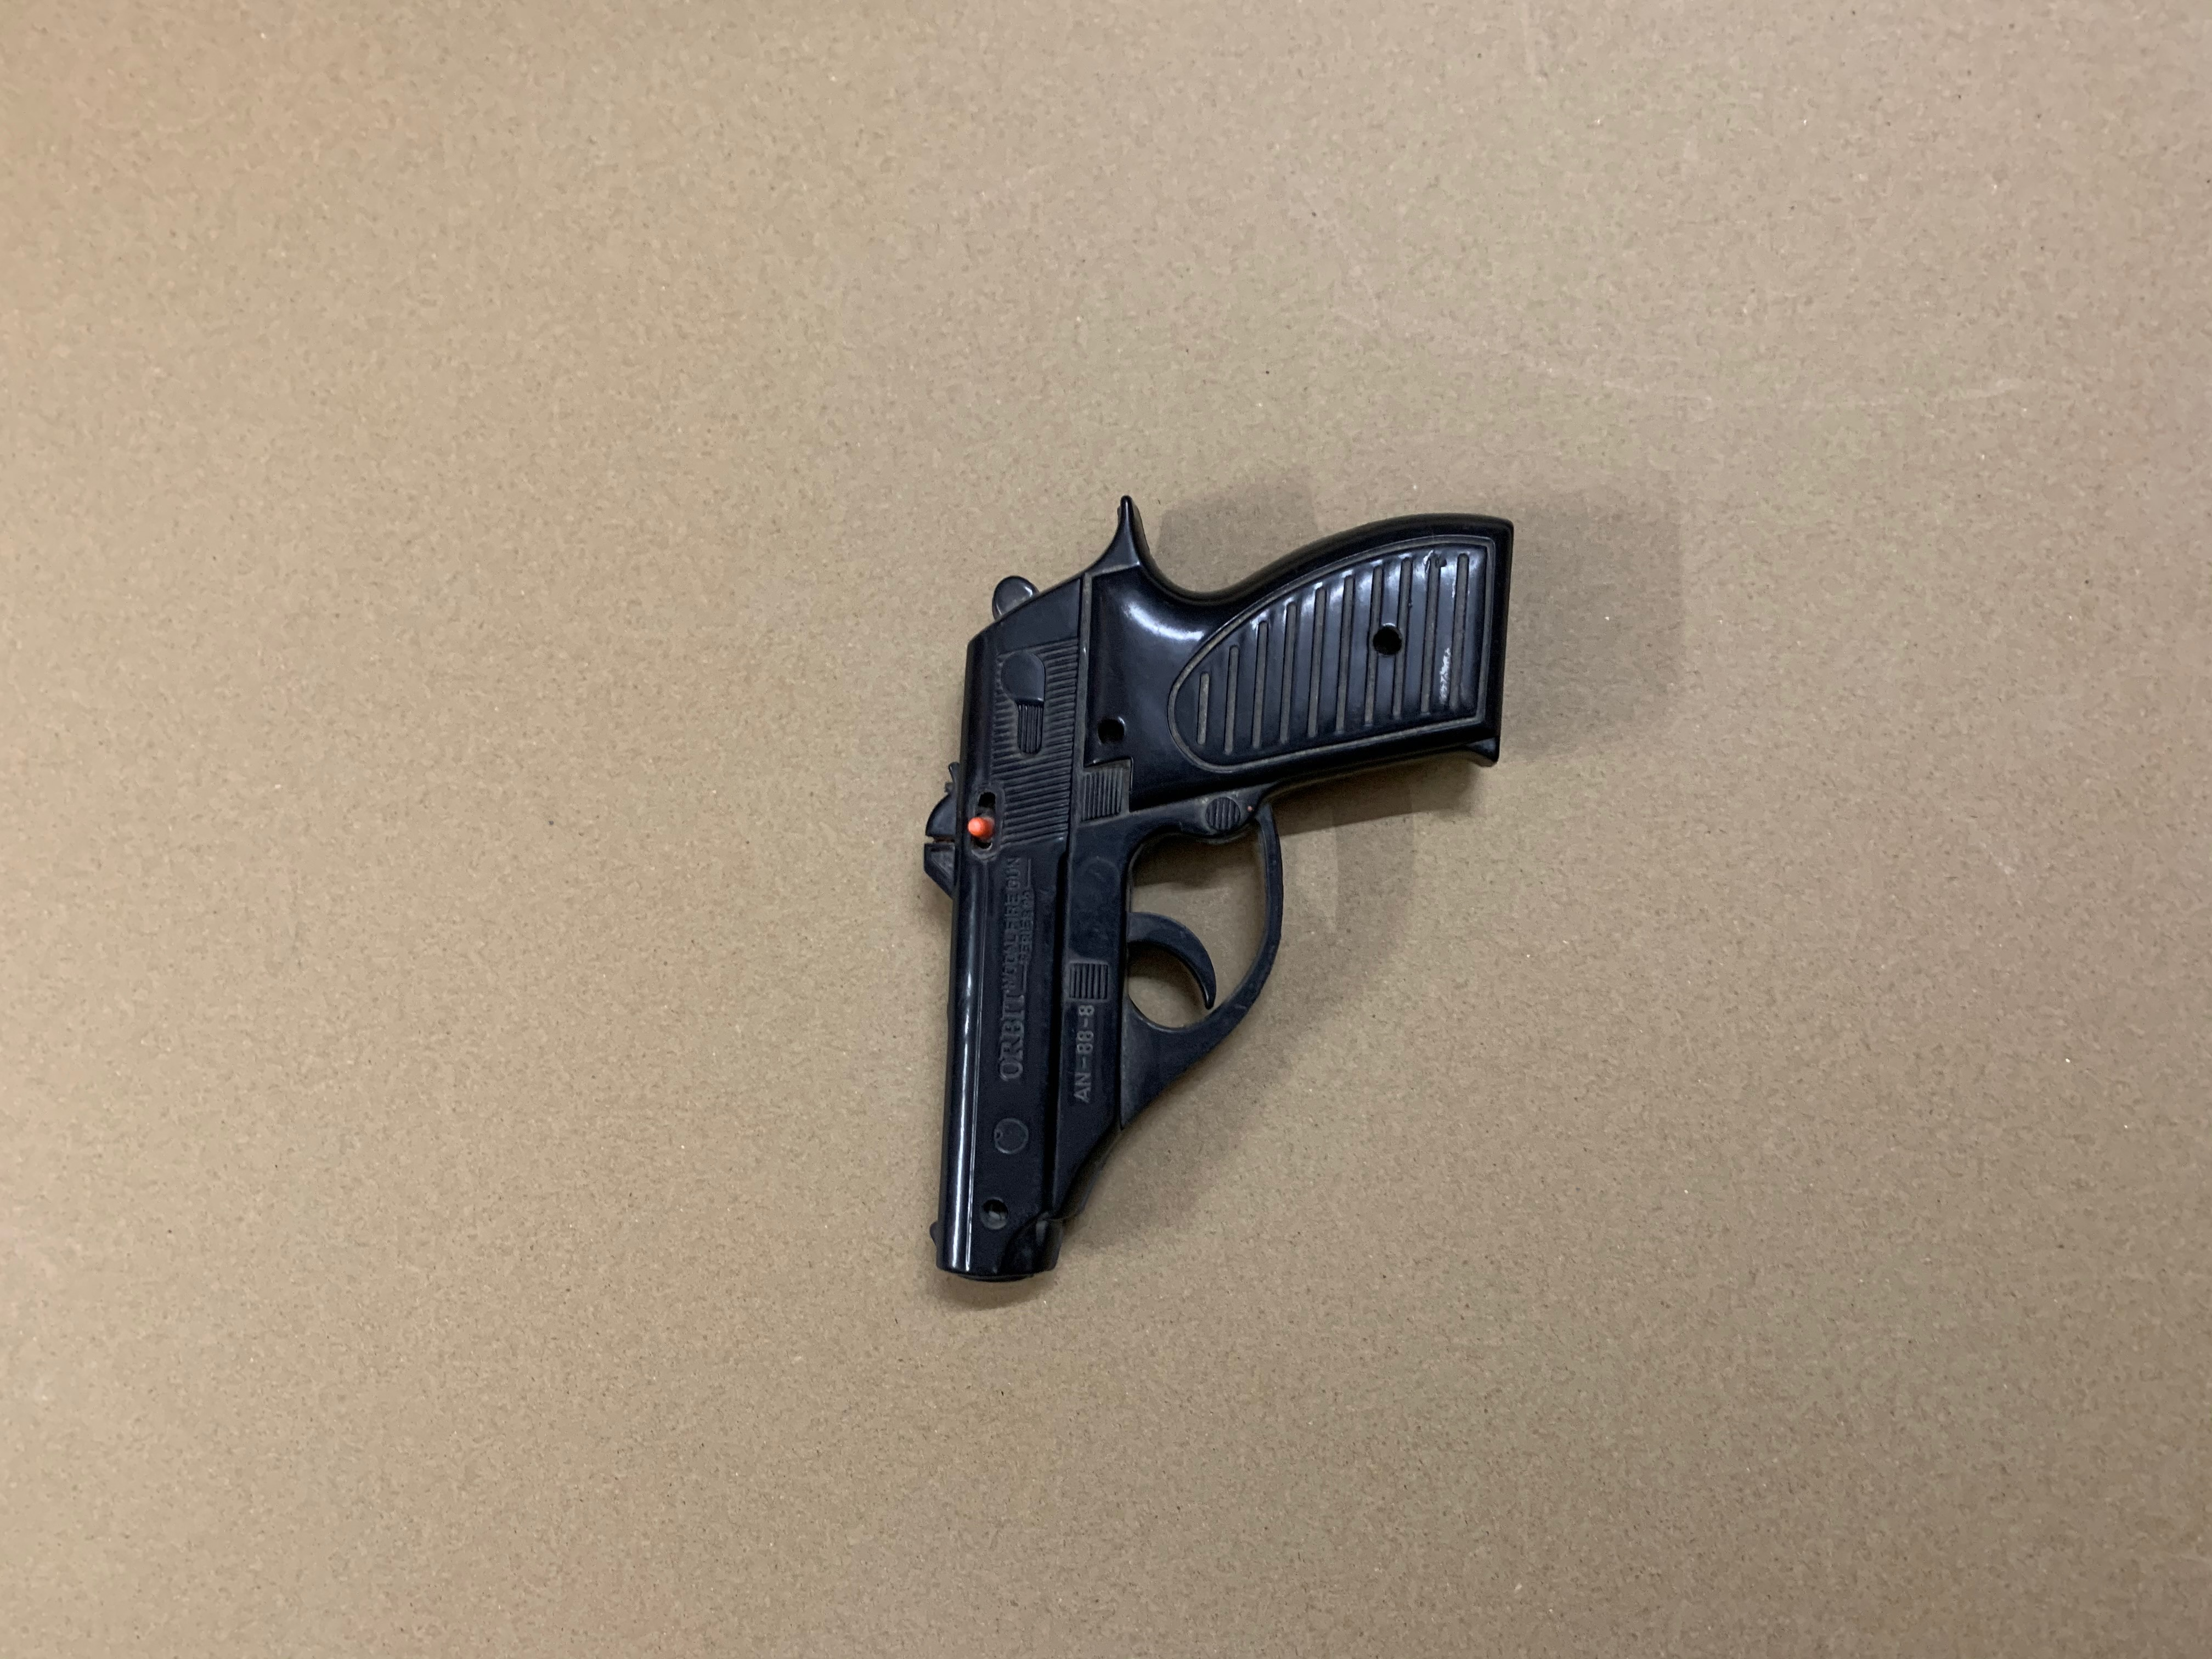gun: (913, 488, 1521, 1290)
